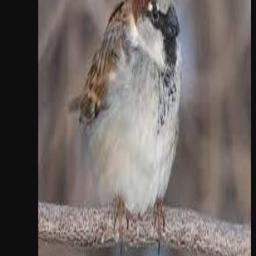Sparrow: (66, 0, 181, 255)
